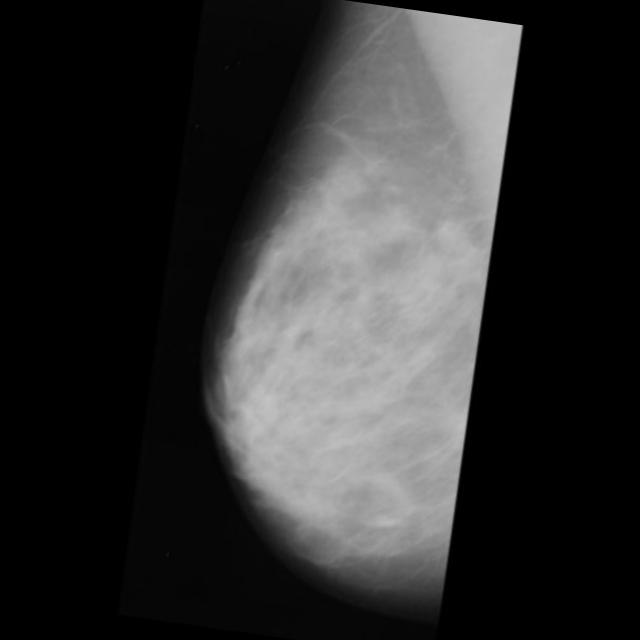MISC: (422, 205, 482, 265)
